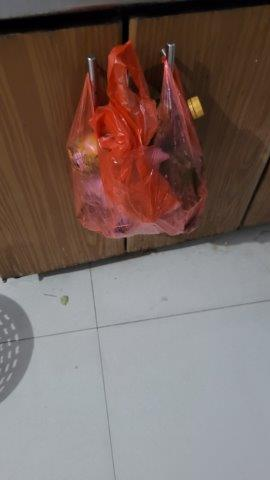plastik: (71, 42, 206, 240)
